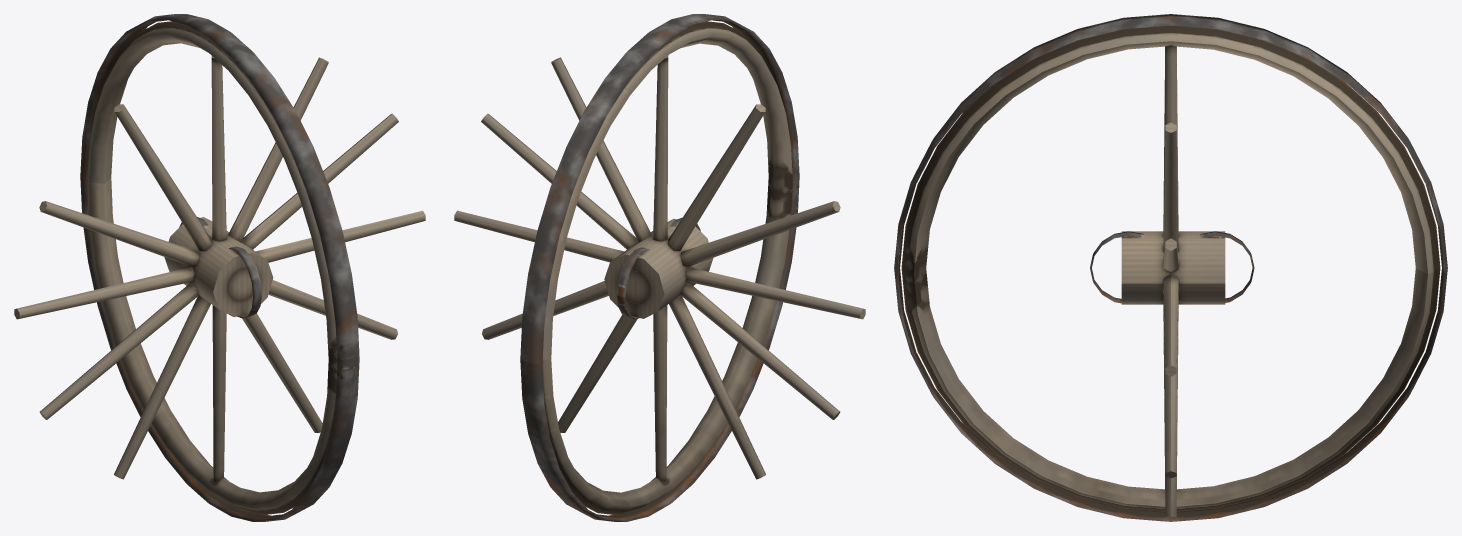
The model's file is SM_Camp_CannonCart_WheelR.fbx.
The picture shows the model from 3 angles, left to right: view 1: azimuth 30°, elevation 25°; view 2: azimuth 150°, elevation 25°; view 3: azimuth 270°, elevation 25°; orthographic projection. The views are drawn at different scales.
Visible parts, largest first — view 1: SM_Camp_CannonCart_WheelR; view 2: SM_Camp_CannonCart_WheelR; view 3: SM_Camp_CannonCart_WheelR.
Part boxes in pixels (<box>): SM_Camp_CannonCart_WheelR: <box>14,14,425,521</box>; SM_Camp_CannonCart_WheelR: <box>454,14,865,521</box>; SM_Camp_CannonCart_WheelR: <box>894,14,1447,521</box>.
Size of the model in its own units: 101 by 112 by 112.
